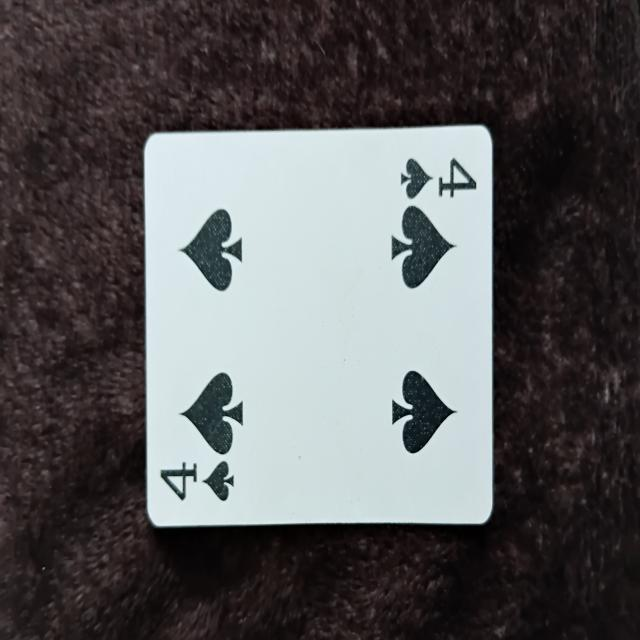4S: (145, 137, 493, 531)
